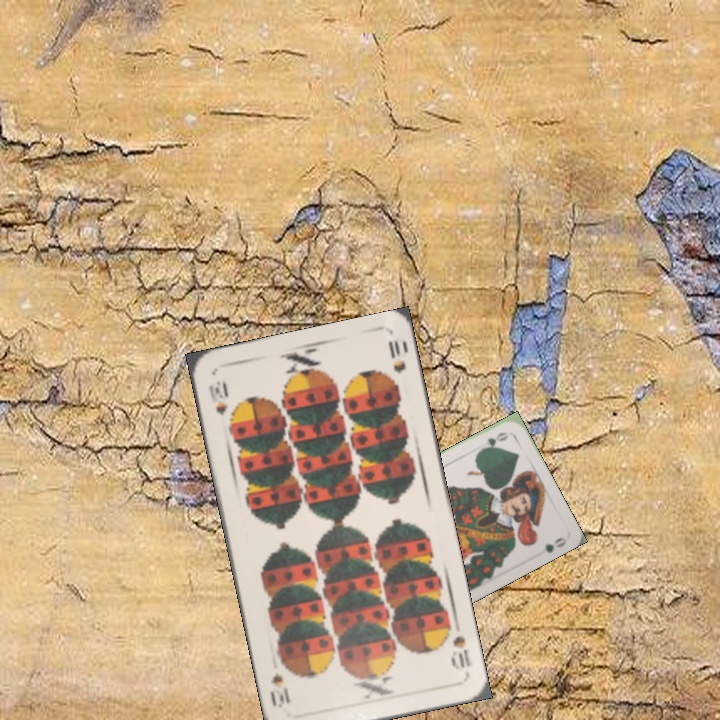GO: (475, 427, 511, 455)
S10: (441, 619, 475, 672), (204, 376, 231, 418)
